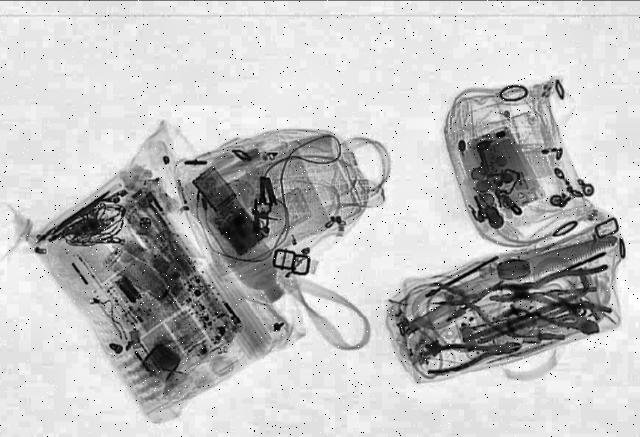Pliers: (487, 264, 617, 318), (512, 289, 610, 341), (428, 271, 518, 327), (420, 330, 530, 374)
